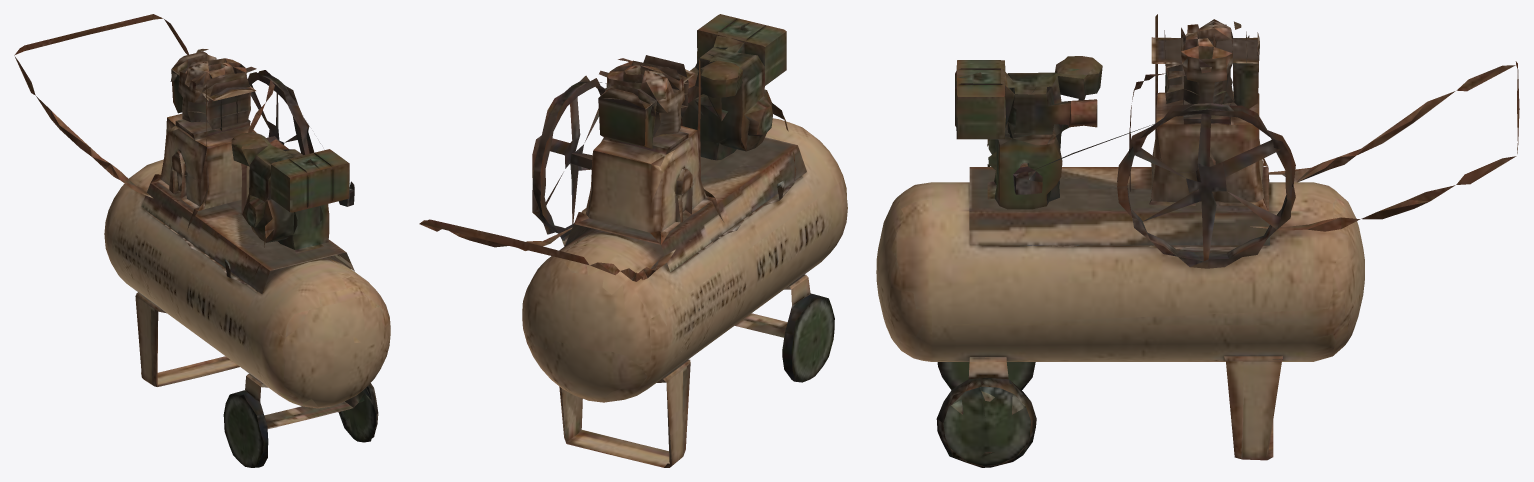
The model's file is compressor.glb.
3 renders of one model, left to right at view 1: azimuth 30°, elevation 25°; view 2: azimuth 150°, elevation 25°; view 3: azimuth 270°, elevation 25°, orthographic. The views are drawn at different scales.
Parts seen in each view (by area): view 1: mesh; view 2: mesh; view 3: mesh.
Boxes of the visible parts, x1,y1,x2,y2 form: mesh: (14,14,390,467); mesh: (419,14,847,467); mesh: (876,14,1519,467).
Bounding box in the file's own units: 0.5834 × 1.18 × 1.68.
Materials: 1 (1 with a texture image).
